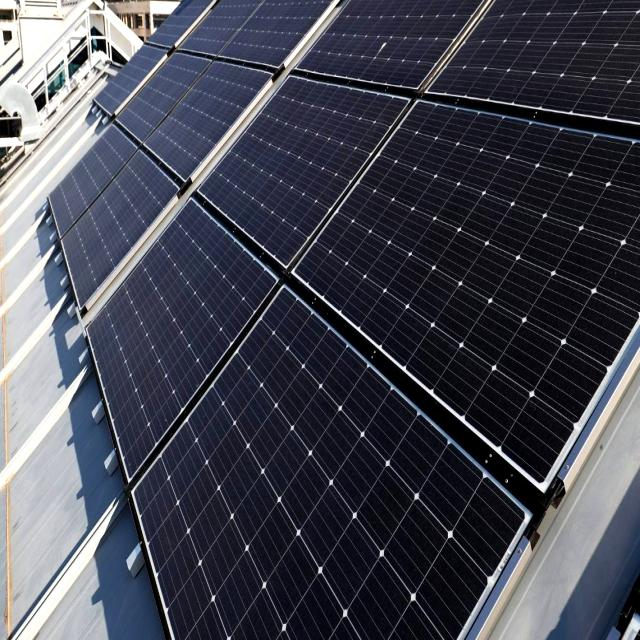crack: (66, 285, 543, 640), (269, 75, 640, 505), (84, 186, 281, 512), (184, 59, 398, 276), (27, 120, 142, 238)
